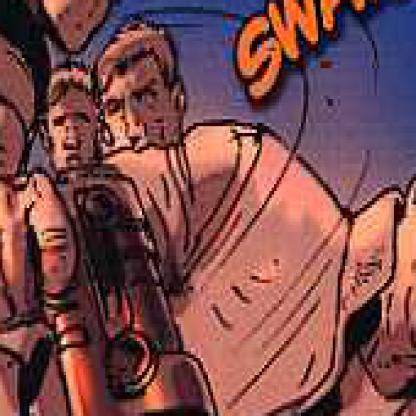gun: (0, 143, 238, 413)
